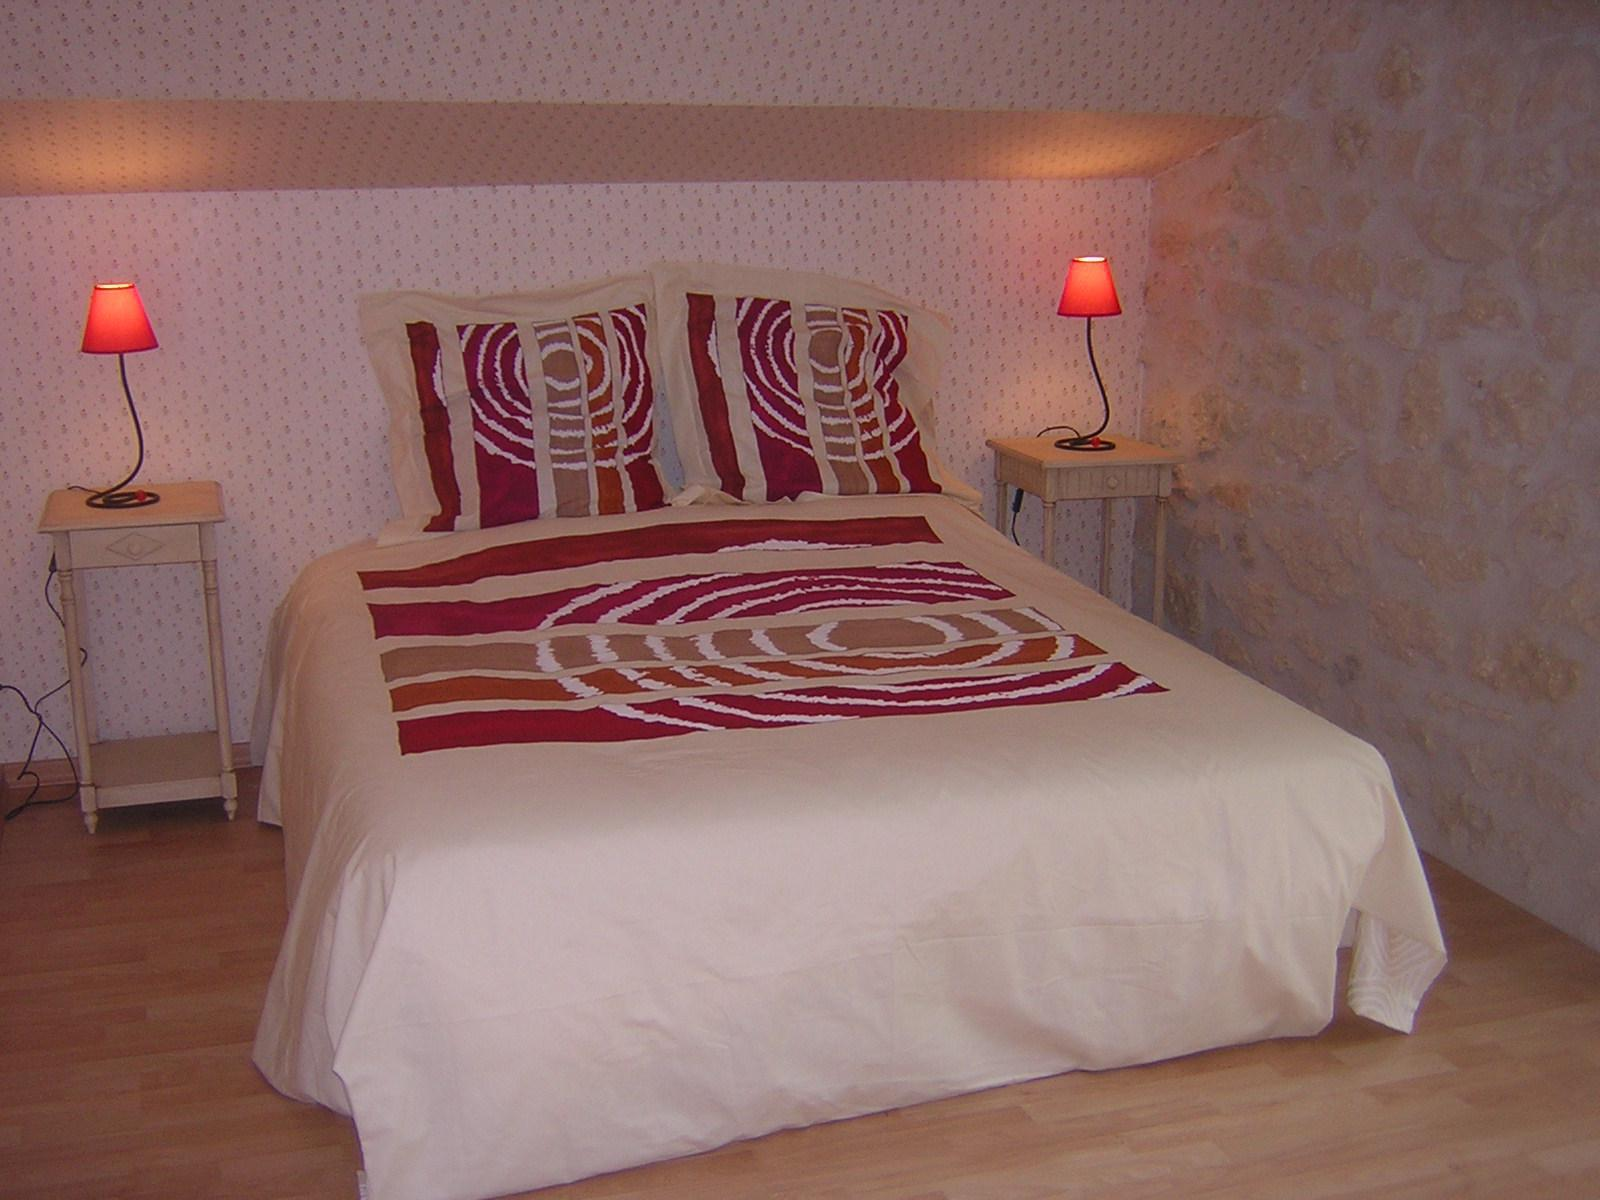Cama: (218, 297, 1402, 1116)
